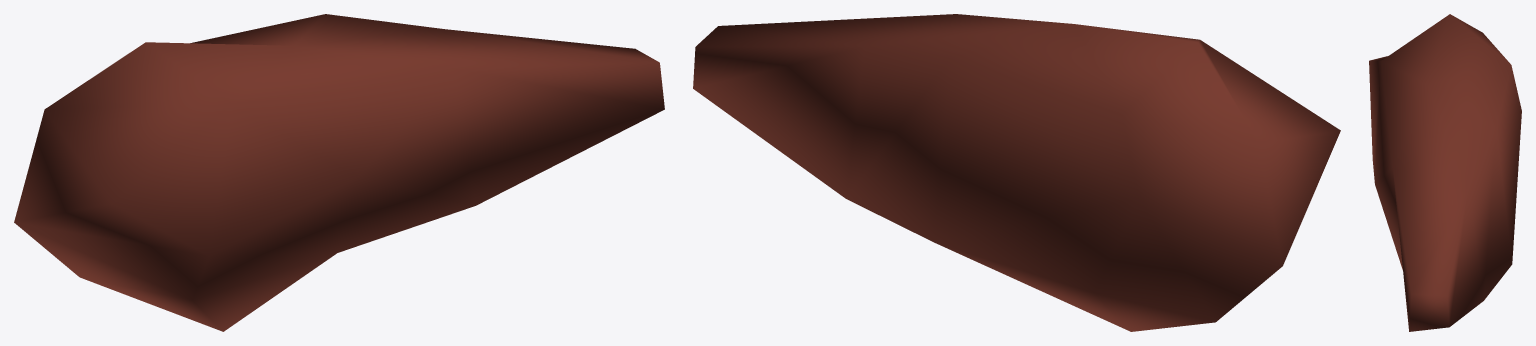
The model's file is pemmican.glb.
The picture shows the model from 3 angles, left to right: view 1: azimuth 30°, elevation 25°; view 2: azimuth 150°, elevation 25°; view 3: azimuth 270°, elevation 25°; orthographic projection. The views are drawn at different scales.
Visible parts, largest first — view 1: Cube; view 2: Cube; view 3: Cube.
Part boxes in pixels (x1=…): Cube: x1=14, y1=14, x2=664, y2=331; Cube: x1=693, y1=14, x2=1340, y2=331; Cube: x1=1369, y1=14, x2=1521, y2=331.
Bounding box in the file's own units: 0.7959 × 0.3833 × 0.226.
